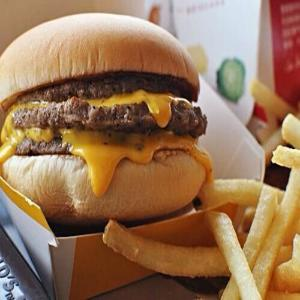cheeseburger: (3, 4, 207, 237)
fries: (214, 116, 300, 296)
